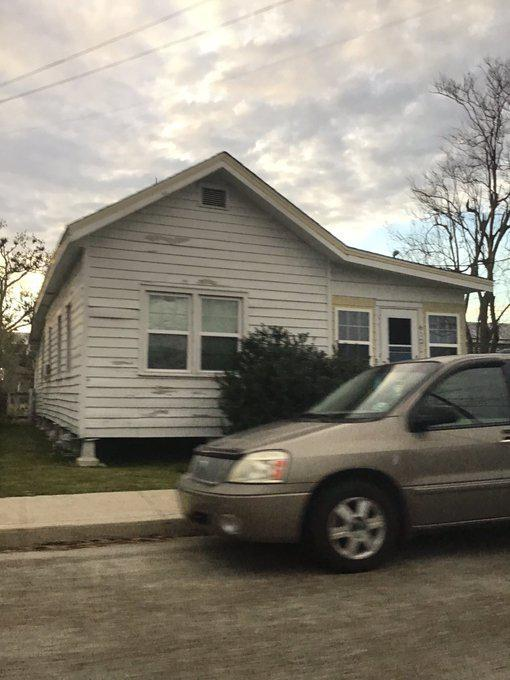minor: (18, 142, 498, 490)
